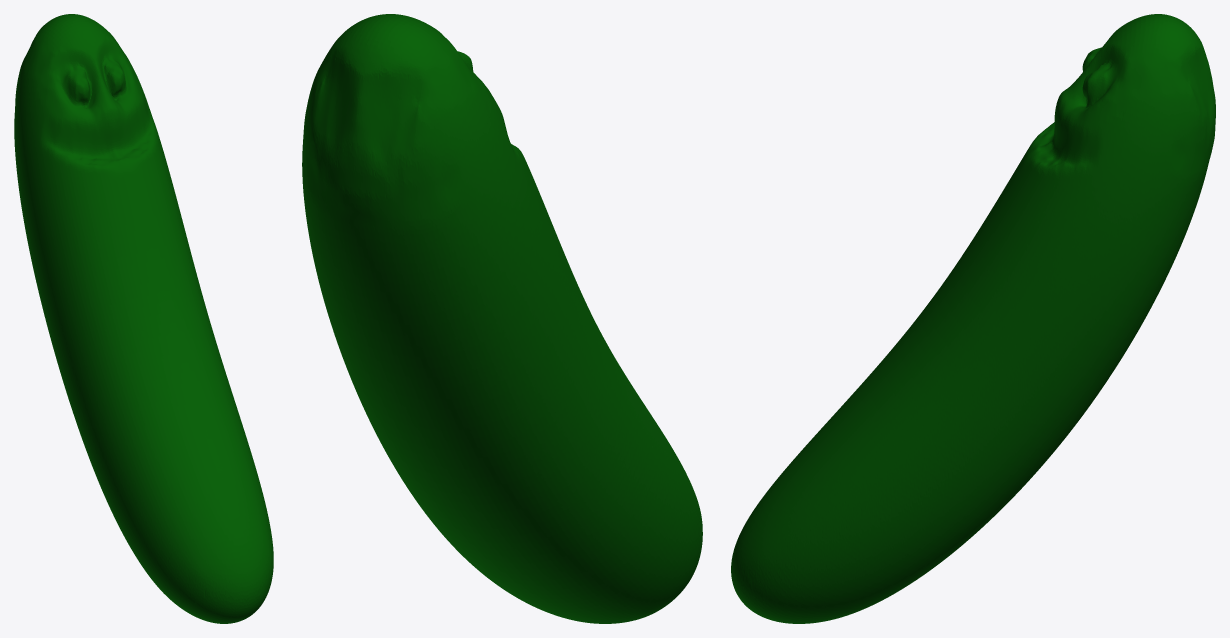
The model's file is I'm pickle rick.obj.
3 views of the same model, side by side, from view 1: azimuth 30°, elevation 25°; view 2: azimuth 150°, elevation 25°; view 3: azimuth 270°, elevation 25° (orthographic). The views are drawn at different scales.
Visible parts, largest first — view 1: Cube; view 2: Cube; view 3: Cube.
Boxes of the visible parts, <box> form: Cube: <box>14,14,273,623</box>; Cube: <box>302,14,702,623</box>; Cube: <box>731,14,1215,623</box>.
Size of the model in its own units: 1.82 by 6.35 by 4.66.
